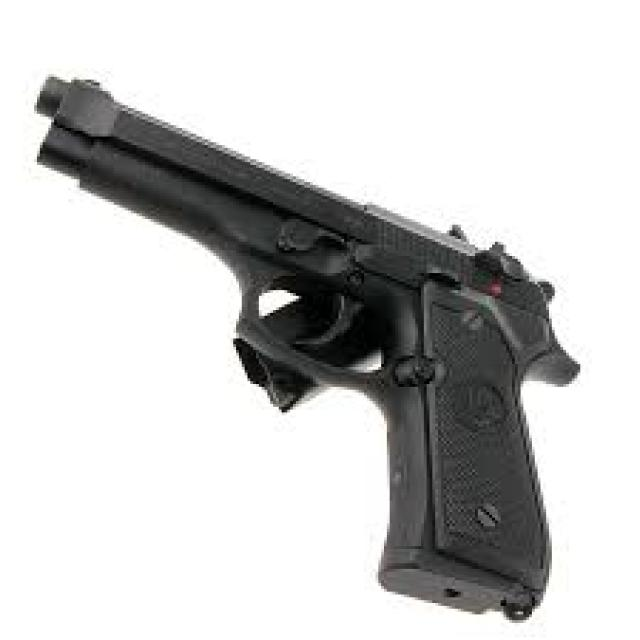pistol: (25, 70, 587, 634)
